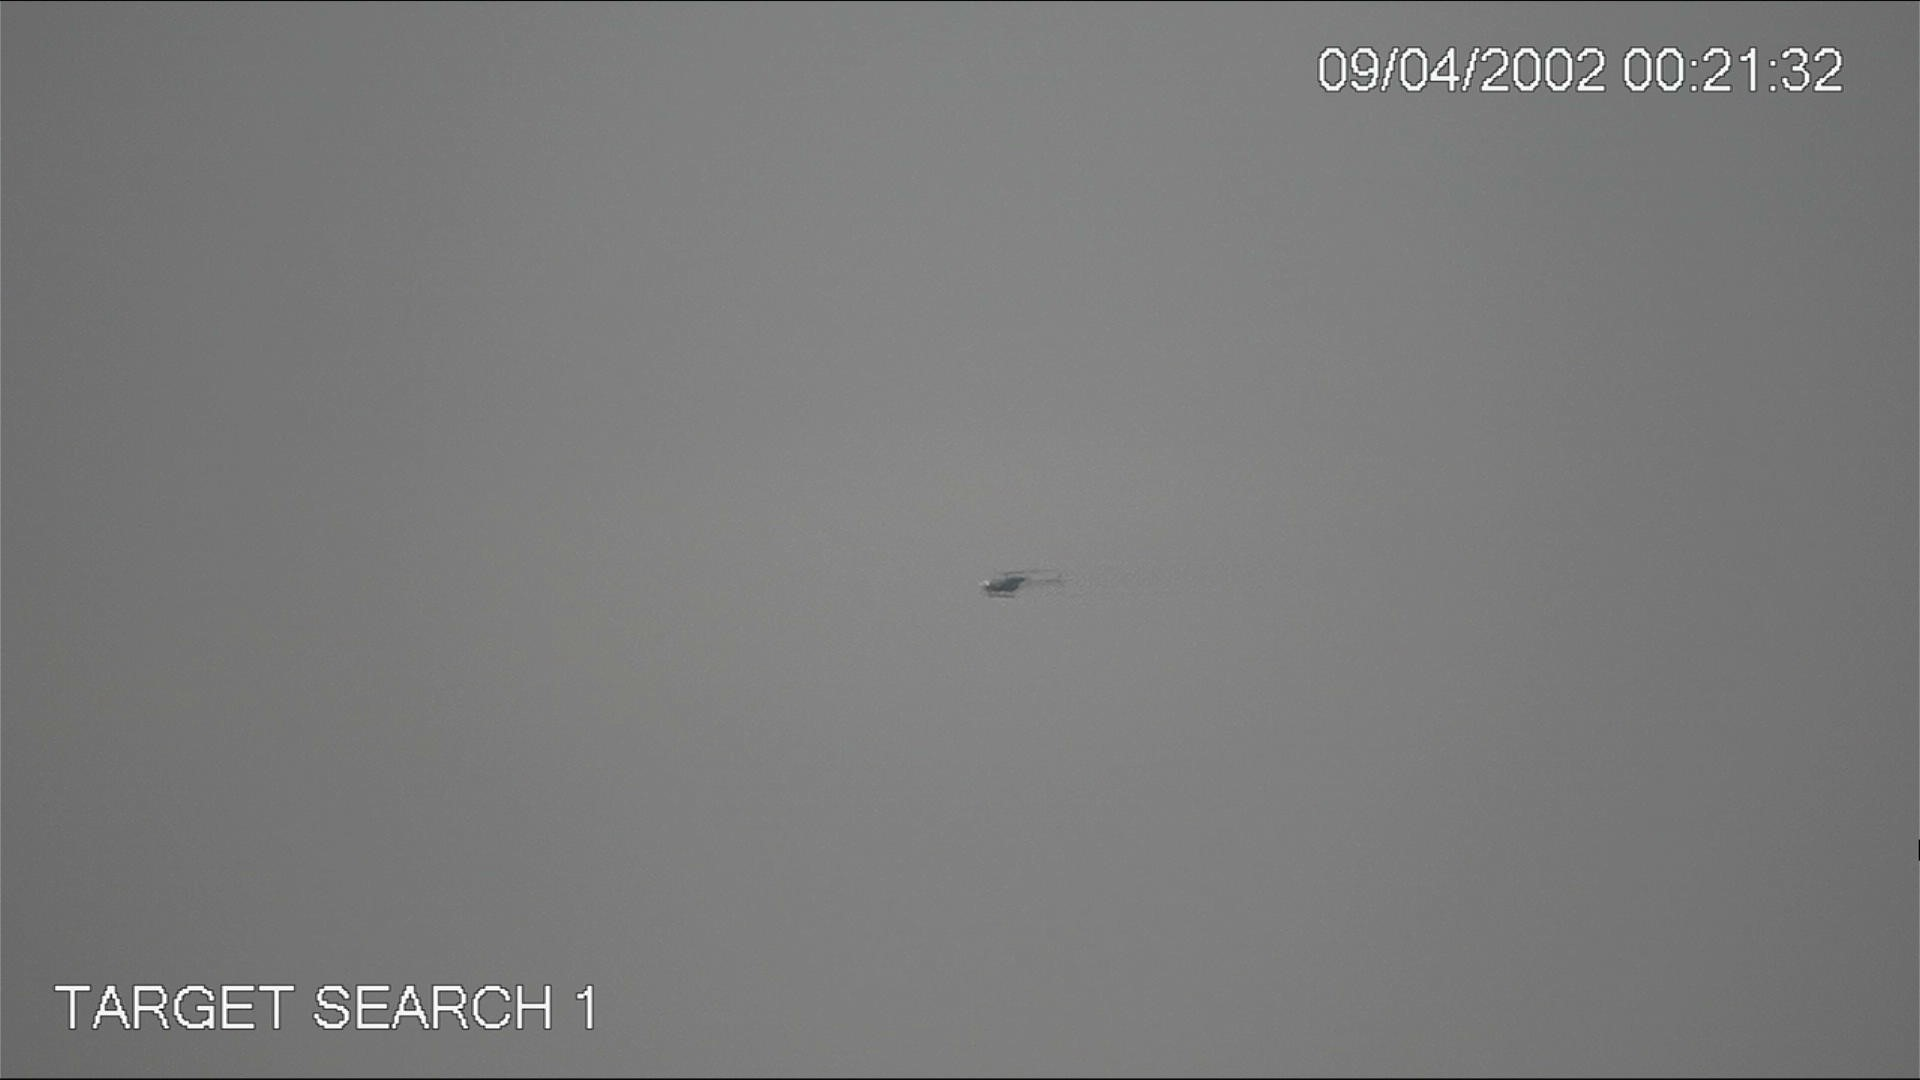SU_30: (975, 572, 1030, 597)
